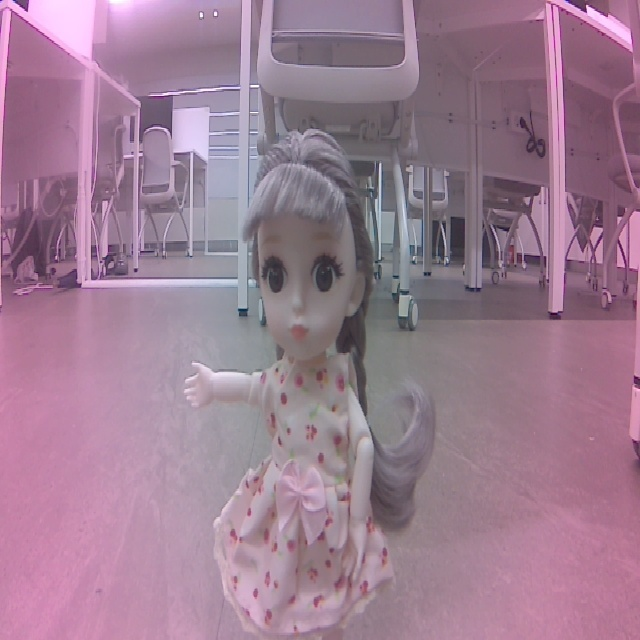장애물: (176, 118, 441, 640)
